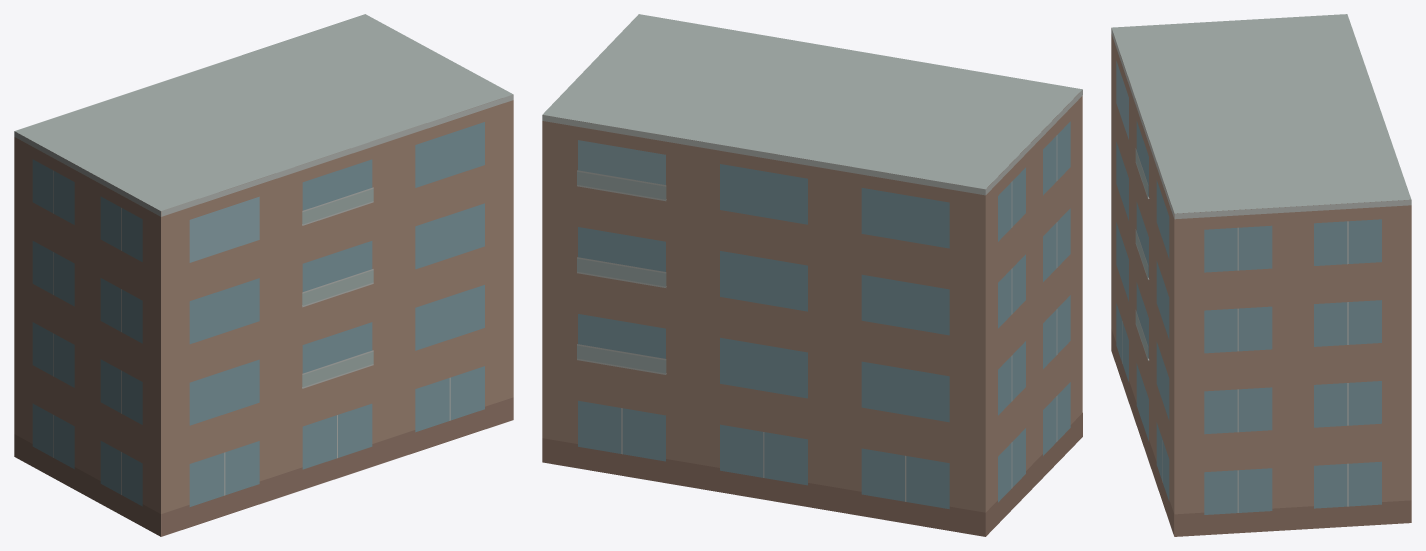
The model's file is survey-upis-32627310.glb.
3 renders of one model, left to right at view 1: azimuth 30°, elevation 25°; view 2: azimuth 150°, elevation 25°; view 3: azimuth 270°, elevation 25°, orthographic. The views are drawn at different scales.
Visible parts, largest first — view 1: survey-upis-32627310.tmp; view 2: survey-upis-32627310.tmp; view 3: survey-upis-32627310.tmp.
Part boxes in pixels (<box>): survey-upis-32627310.tmp: <box>14,14,513,536</box>; survey-upis-32627310.tmp: <box>542,14,1082,536</box>; survey-upis-32627310.tmp: <box>1111,14,1411,536</box>.
Bounding box in the file's own units: 18.55 × 14 × 11.79.
